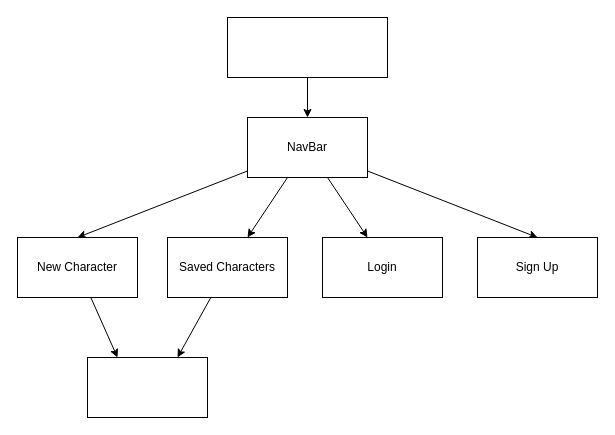
This 615x435 diagram has some shape labels left out. The box of each missing label's shape, as (x1, y1, x2, y2) in pixels:
App: (226, 16, 388, 78)
Character Sheet: (86, 356, 208, 418)
